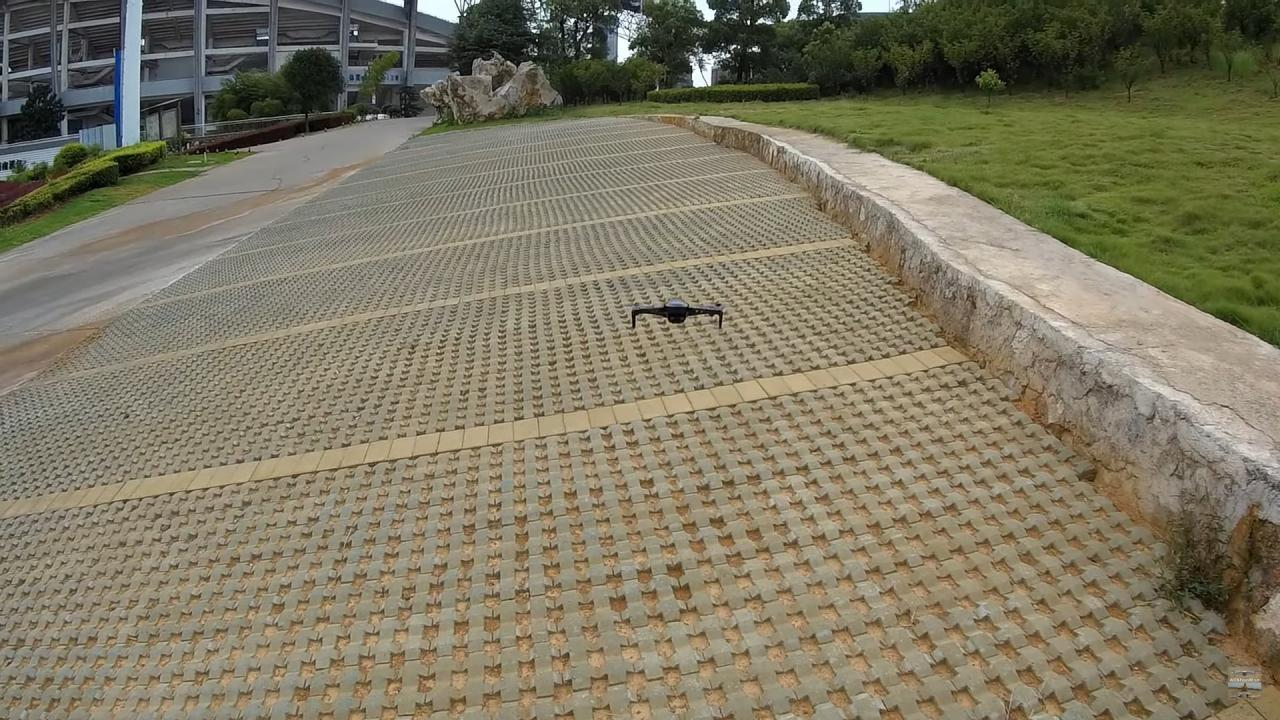Drone: (619, 288, 737, 341)
